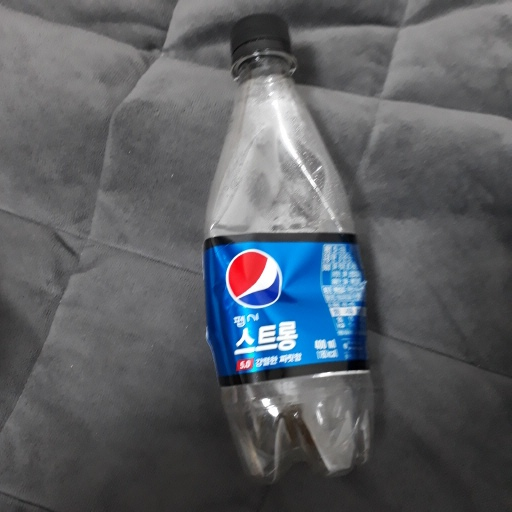Plastic_0: (200, 15, 383, 490)
